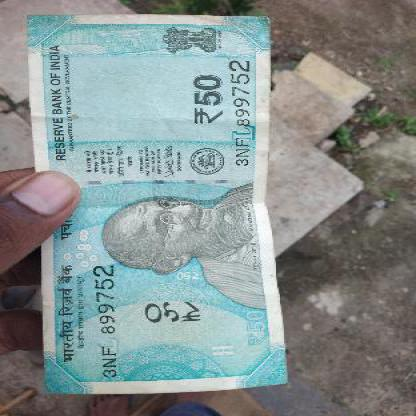New50Front: (25, 14, 284, 391)
